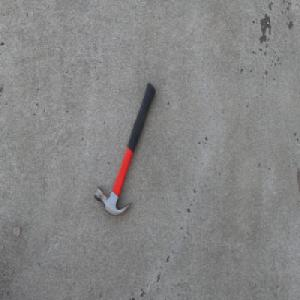Hammer: (93, 81, 155, 217)
